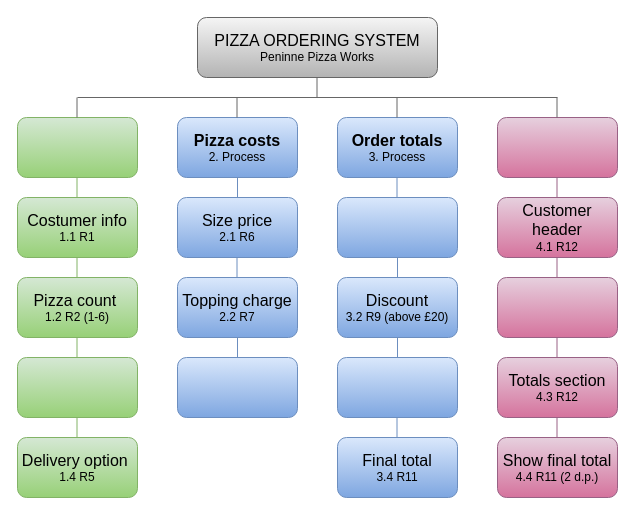
This 635x515 diagram has some shape labels left out. The box of each missing label's shape, as (x1, y1, x2, y2) in pixels:
Cost per pizza 2.3 R6 (loop): (176, 356, 298, 418)
Delivery charge 3.3 R10: (336, 356, 458, 418)
Input details 1. Input: (16, 116, 138, 178)
Itemised pizzas 4.2 R12: (496, 276, 618, 338)
Itemized bill 4. Output: (496, 116, 618, 178)
Pizza choices 1.3 R3, R4: (16, 356, 138, 418)
Subtotal 3.1 R8: (336, 196, 458, 258)
